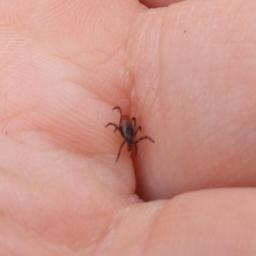Ixodes scapularis: (105, 106, 157, 161)
